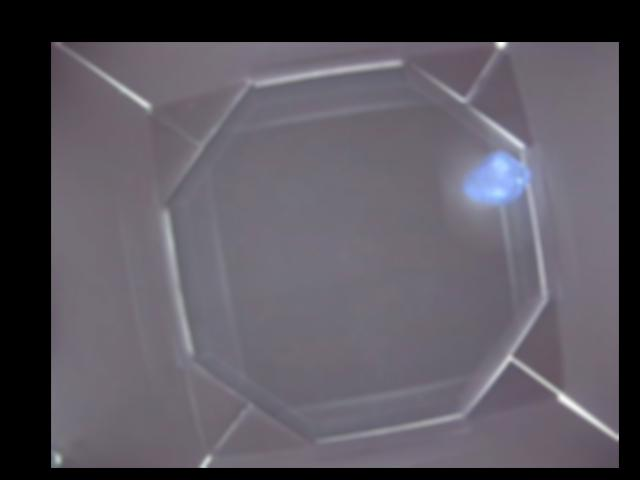Pebble: (463, 152, 533, 206)
